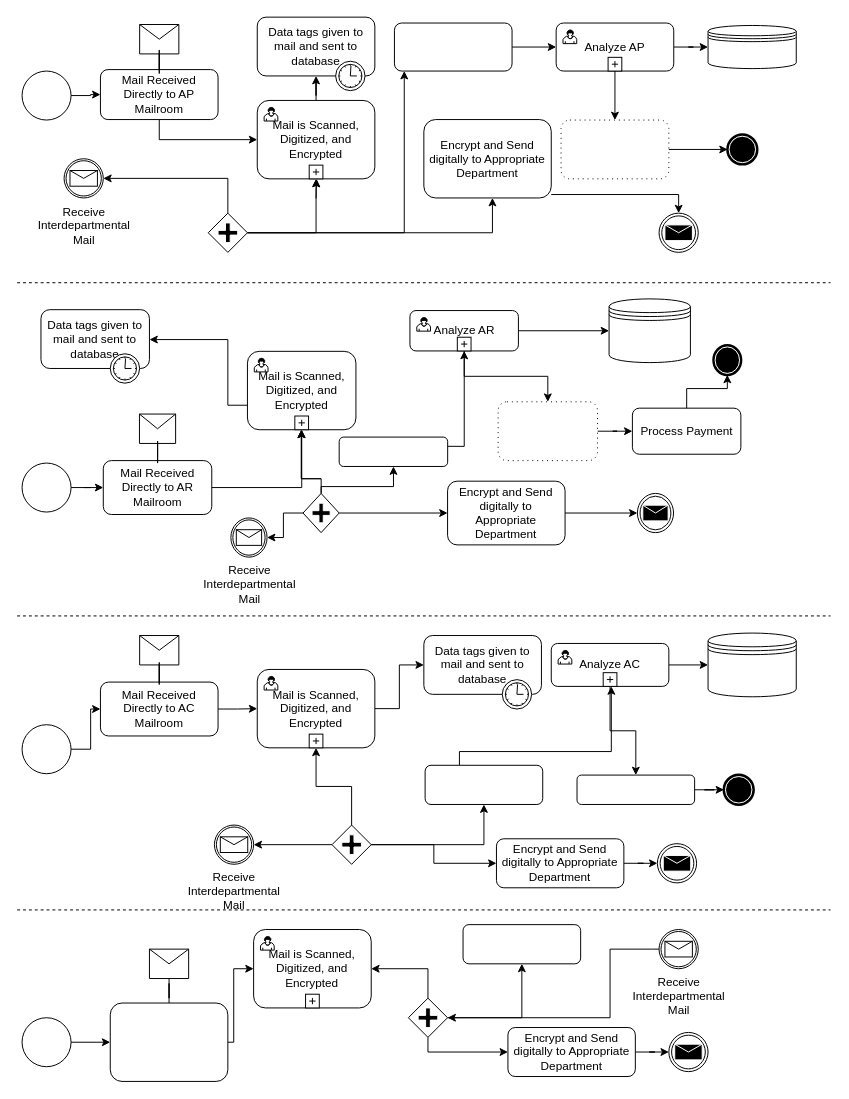
The diagram is 849 pixels wide and 1099 high, and some of its shapes have lost their labels. The shapes that lost their labels are listed below. From the top down, each one's box as (x1, y1, x2, y2) in pixels, then its label:
(393, 22, 512, 71): Mail Belongs to AP
(707, 24, 796, 69): Store Client Info
(560, 119, 669, 179): Prepare to send payment to client if applicable
(608, 298, 690, 363): Store Payment Data
(338, 436, 448, 466): Mail Belongs to AR
(497, 401, 598, 461): Send payment confirmation if applicable
(707, 632, 796, 697): Update Customer Information
(424, 764, 543, 804): Mail Belongs to AC
(576, 774, 695, 804): Send out Invoice
(462, 924, 581, 964): Mail is forwarded to management
(109, 1002, 228, 1081): Mail Received Directly to Headquarters
